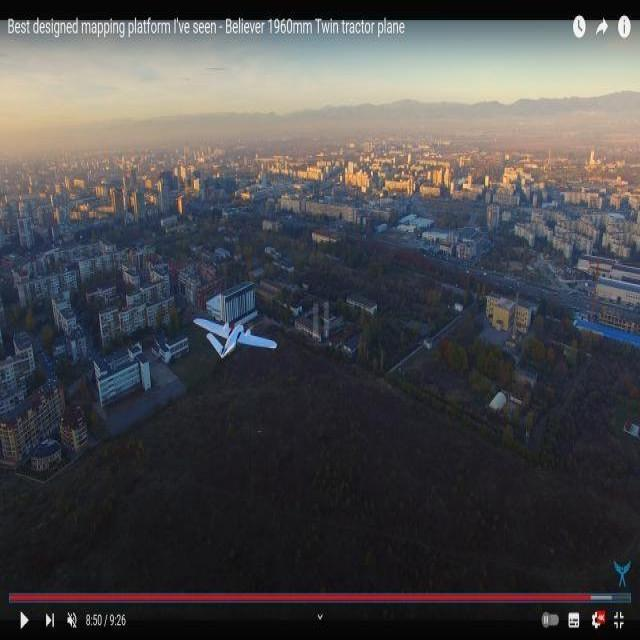Airplane: (194, 312, 278, 366)
